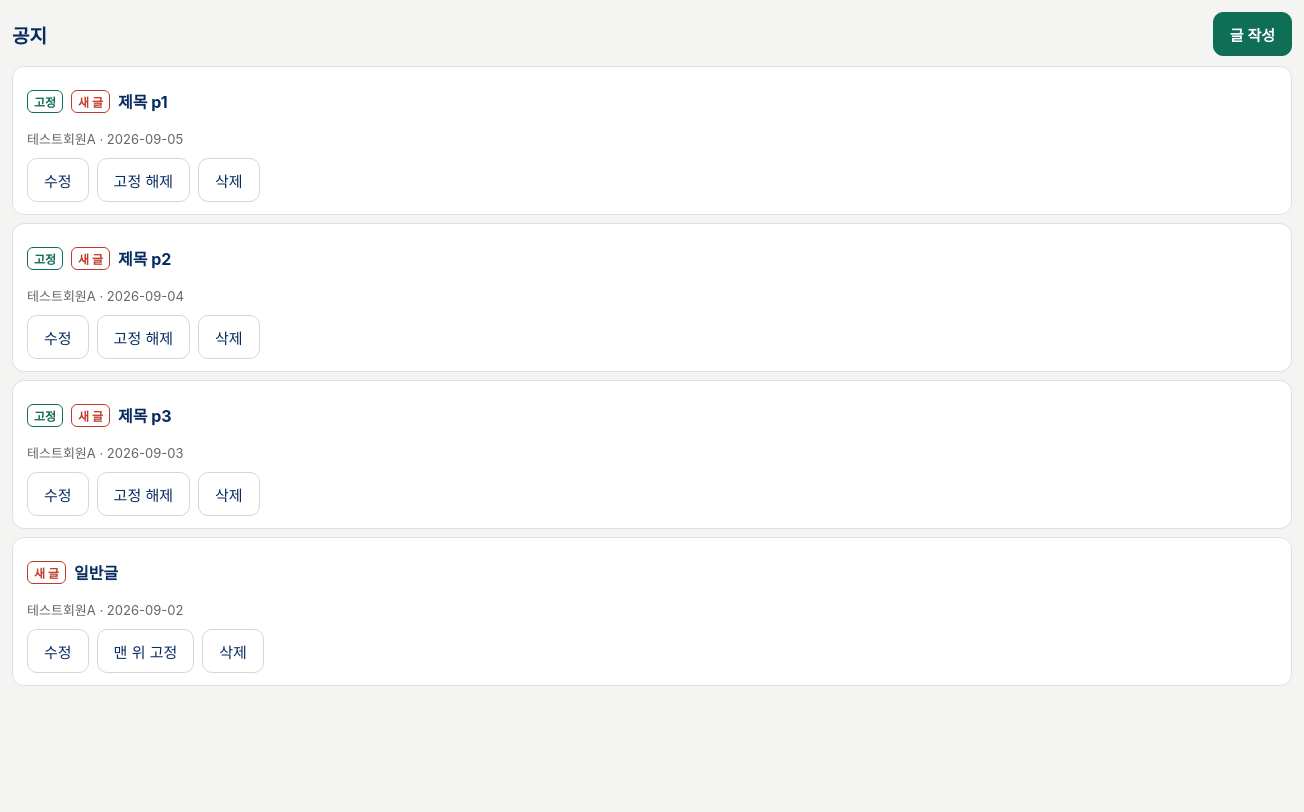
NoticeBoard — 관리자 화면 › 고정은 3개까지만 — 4번째 고정은 막고 서버에 보내지 않는다
expect the text "일반글" is shown: met, box [74,560,118,584]
Click the button "맨 위 고정".
click(145, 651)  # box [97,629,194,673]
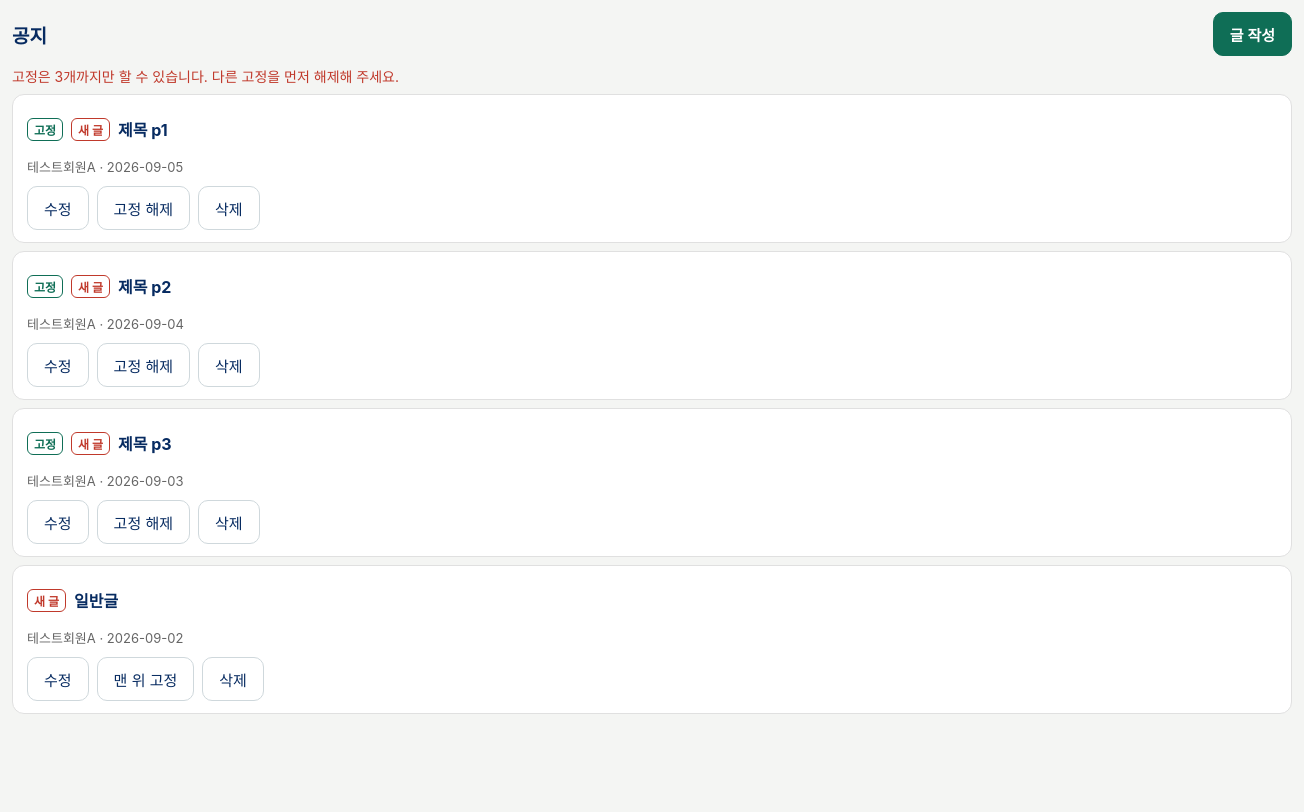
expect the text "고정은 3개까지만 할 수 있습니다. 다른 고정을 먼저 해제해 주세요." is shown: met, box [12,68,399,85]
